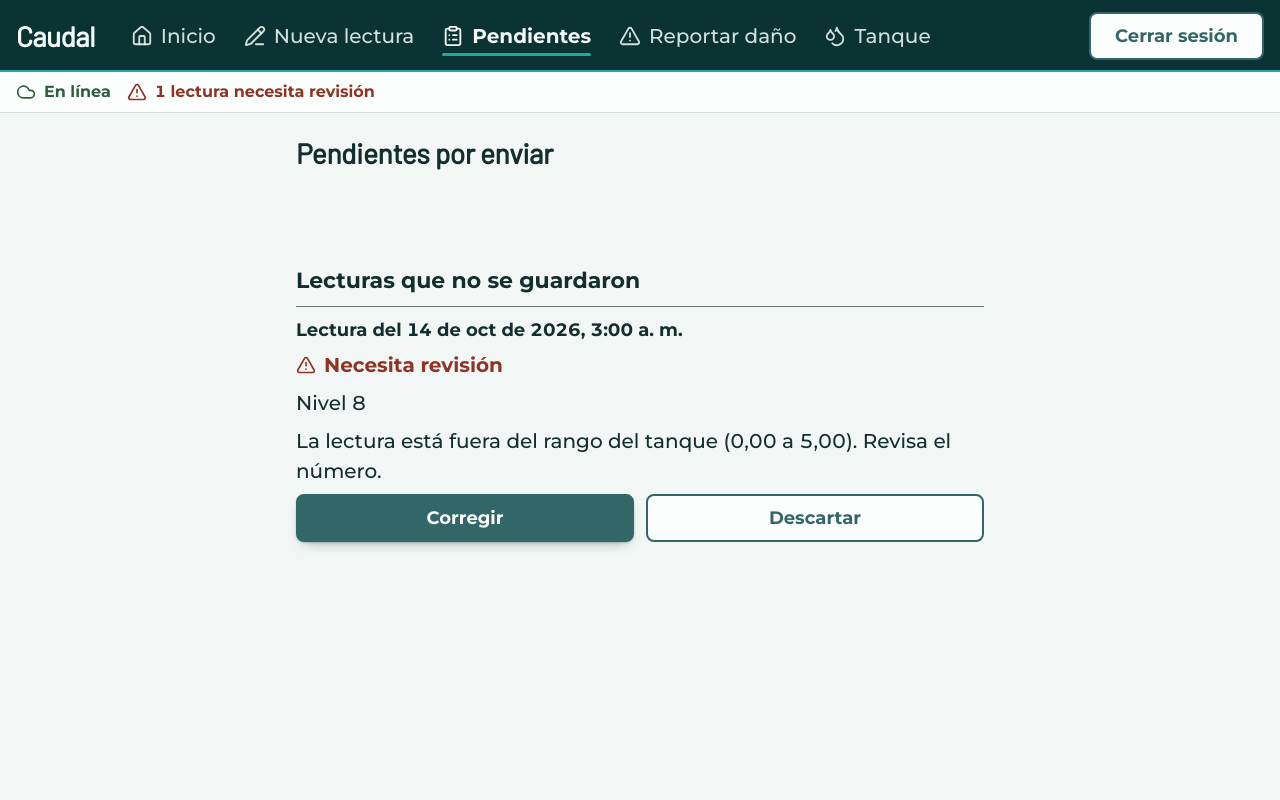
Scenario: ReadingIssues: refused readings › refuses a corrected value outside the range before sending it
Click the button "Corregir" at {"x": 465, "y": 518}, box [296,494,634,542]
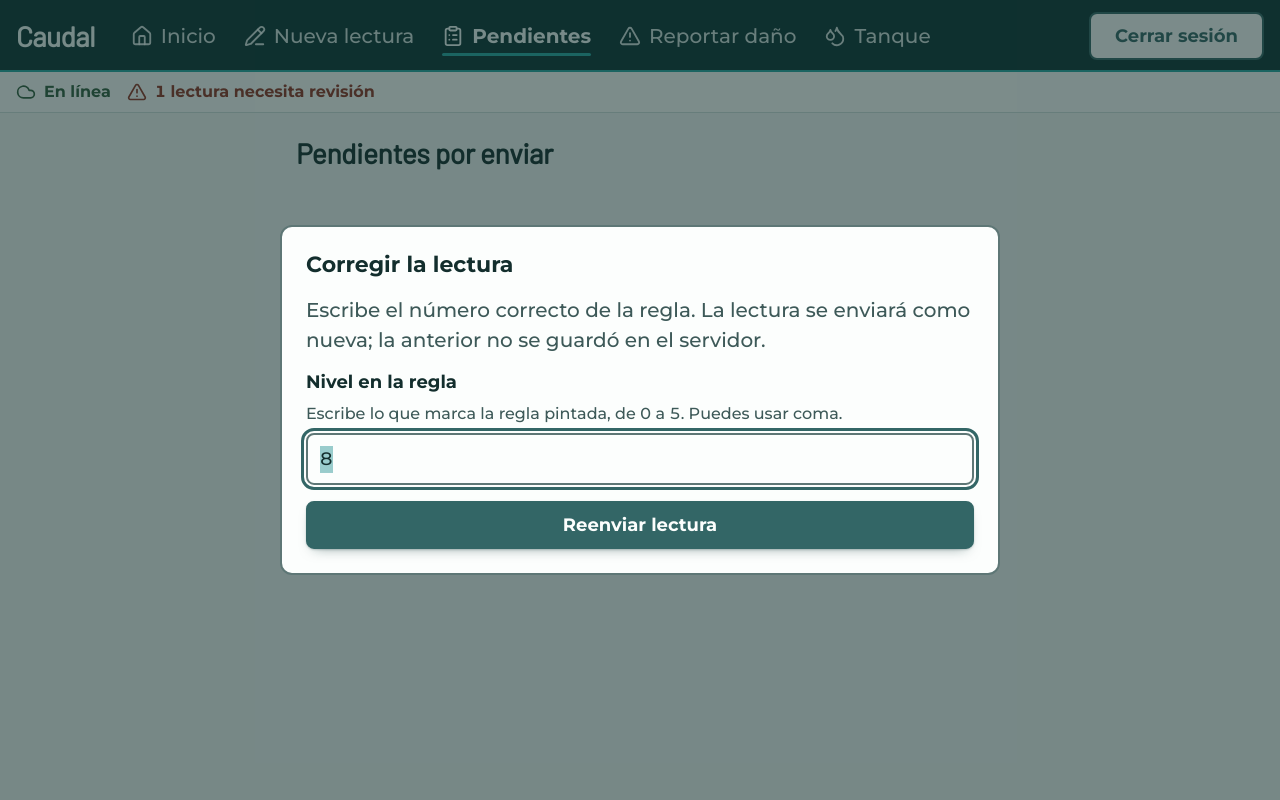
Replace the text in the field labelled "Nivel en la regla" with "9" at {"x": 640, "y": 459}, box [306,433,974,485]
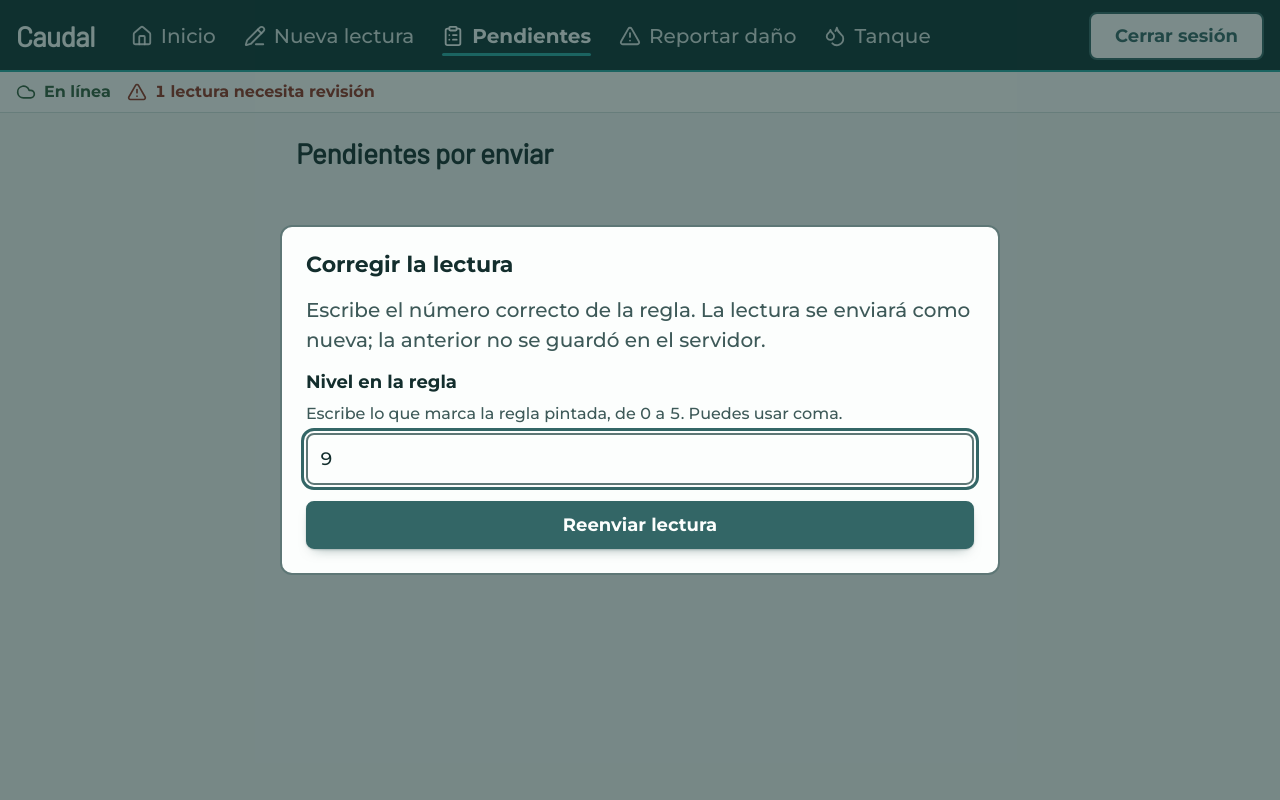
Click the button "Reenviar lectura" at {"x": 640, "y": 525}, box [306,501,974,549]
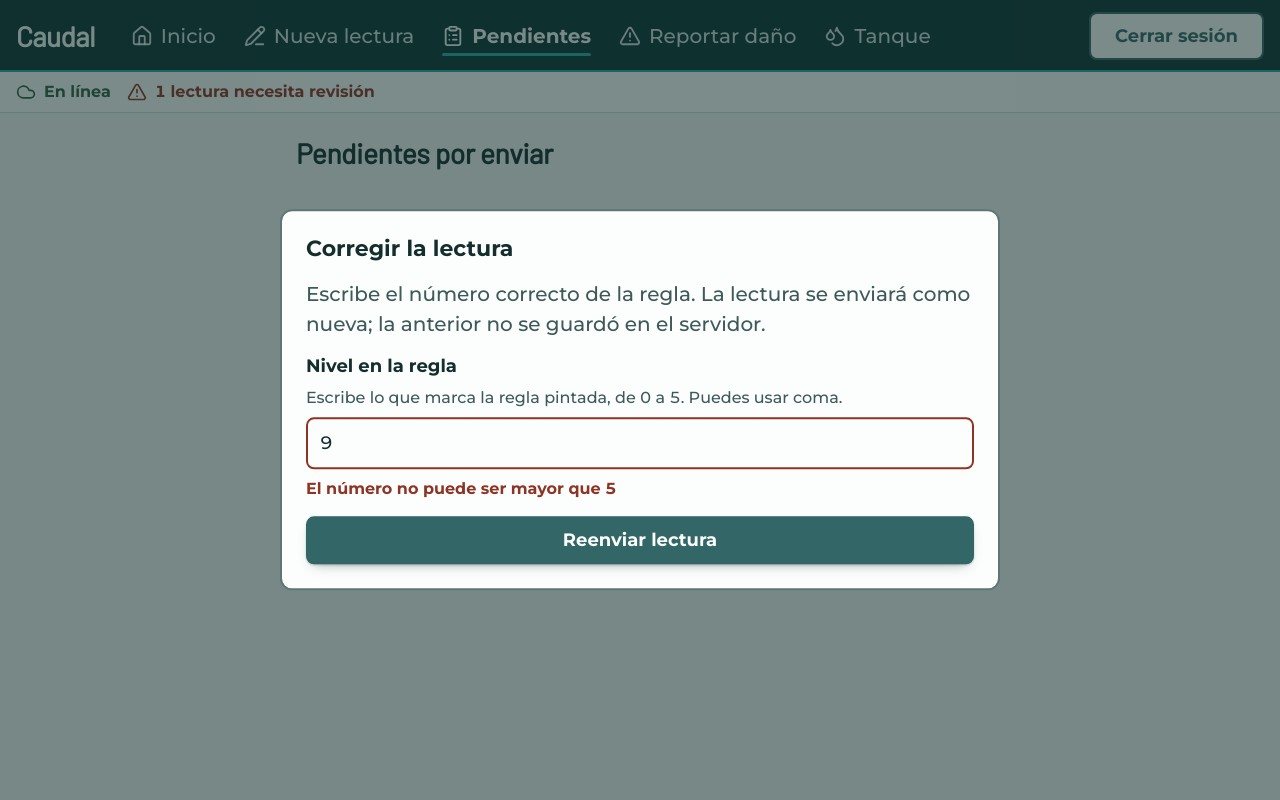
Result: the message "El número no puede ser mayor que 5" is shown at [306,479,616,498]
